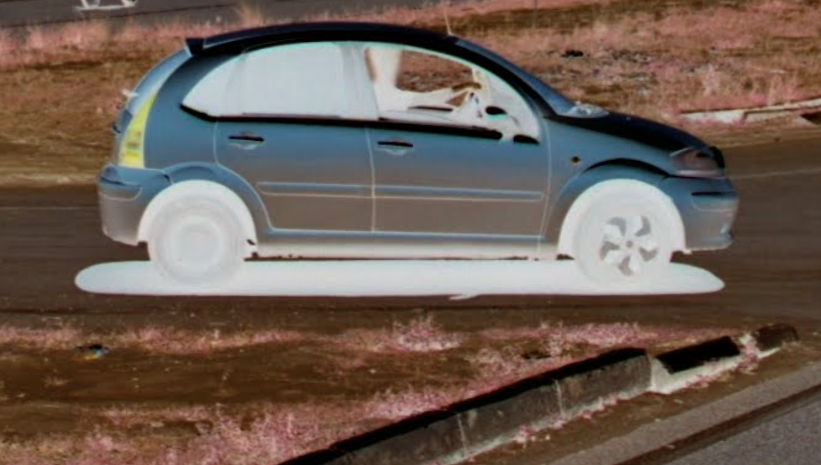car: (93, 3, 741, 290)
